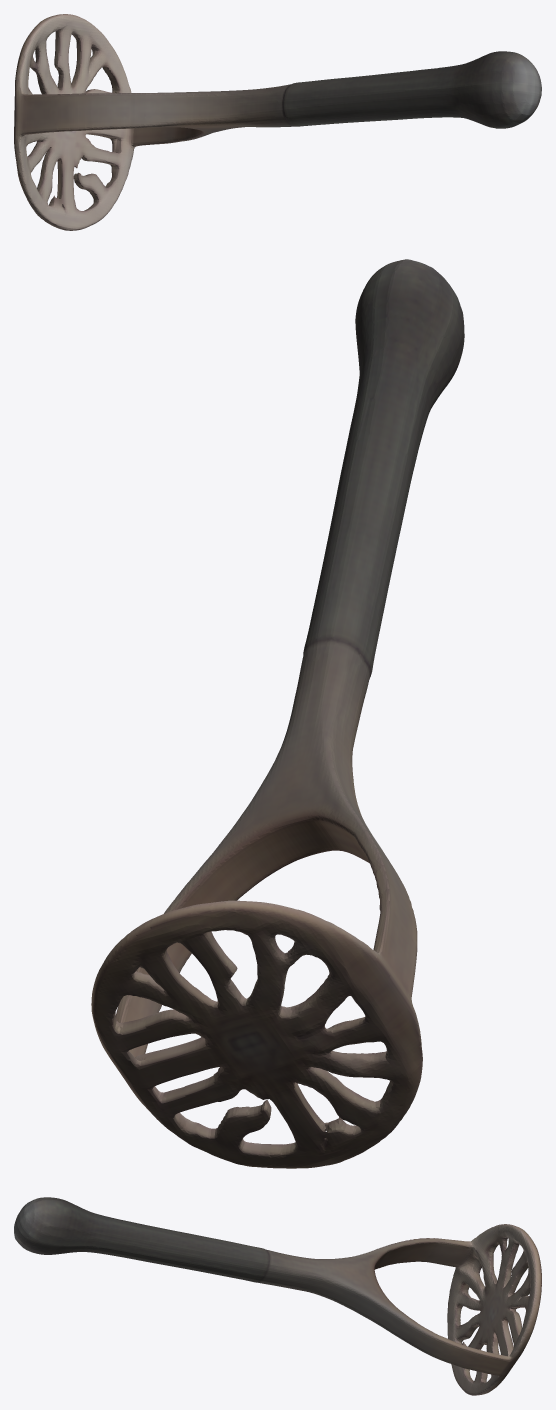
The model's file is frame_0080_source_000080_object.glb.
3 renders of one model, top to bottom at view 1: azimuth 30°, elevation 25°; view 2: azimuth 150°, elevation 25°; view 3: azimuth 270°, elevation 25°, orthographic. The views are drawn at different scales.
Parts seen in each view (by area): view 1: world; view 2: world; view 3: world.
Boxes of the visible parts, x1,y1,x2,y2 form: world: [14, 14, 541, 230]; world: [91, 259, 464, 1168]; world: [14, 1197, 541, 1395].
Bounding box in the file's own units: 0.1248 × 0.1338 × 0.2442.
